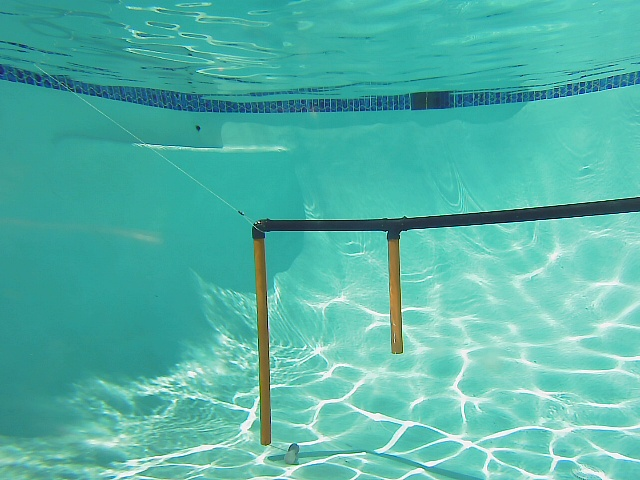Gate: (250, 234, 276, 447), (383, 234, 407, 356)
